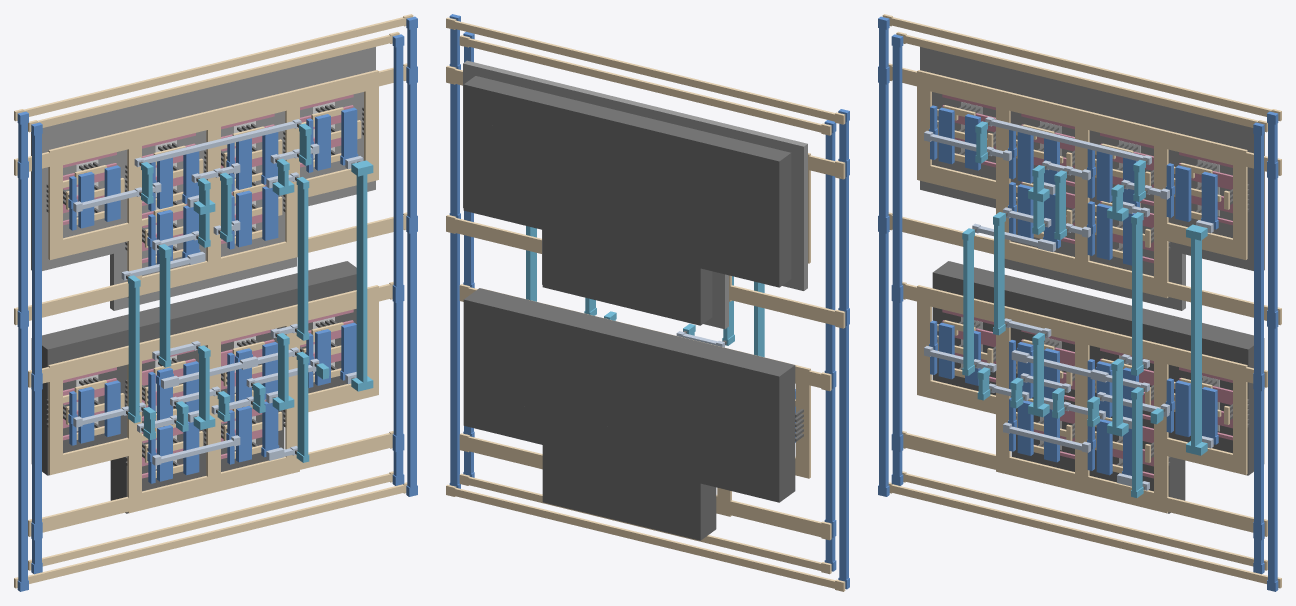
The model's file is current_mirror_OTA.gds.gltf.
3 renders of one model, left to right at view 1: azimuth 30°, elevation 25°; view 2: azimuth 150°, elevation 25°; view 3: azimuth 330°, elevation 25°, orthographic.
Parts seen in each view (by area): view 1: COMP2_li1, COMP2_met1, COMP2_met3, JNWATR_PCH_4C5F0_met1 (×6), JNWATR_NCH_4C5F0_met1 (×6), JNWATR_PCH_4CTAPTOP_nwell (×4), JNWATR_PCH_4C5F0_li1 (×6), JNWATR_NCH_4CTAPTOP_substrate (×4), COMP2_met2, JNWATR_PCH_4CTAPTOP_li1 (×4), JNWATR_NCH_4C5F0_li1 (×6), JNWATR_NCH_4CTAPBOT_li1 (×4) (+8 smaller); view 2: JNWATR_NCH_4C5F0_substrate (×6), JNWATR_PCH_4C5F0_substrate (×6), COMP2_li1, JNWATR_NCH_4CTAPTOP_substrate (×4), JNWATR_PCH_4CTAPTOP_substrate (×4), COMP2_met1, JNWATR_NCH_4CTAPBOT_substrate (×4), JNWATR_PCH_4CTAPBOT_substrate (×4), JNWATR_PCH_4CTAPTOP_nwell (×4), COMP2_met3, JNWATR_PCH_4CTAPBOT_nwell (×2), JNWATR_PCH_4C5F0_nwell (+1 smaller); view 3: COMP2_li1, COMP2_met1, COMP2_met3, JNWATR_PCH_4C5F0_met1 (×6), JNWATR_PCH_4CTAPTOP_nwell (×4), JNWATR_NCH_4C5F0_met1 (×6), JNWATR_NCH_4CTAPTOP_substrate (×4), COMP2_met2, JNWATR_PCH_4C5F0_li1 (×6), JNWATR_NCH_4C5F0_li1 (×6), JNWATR_PCH_4CTAPTOP_li1 (×4), JNWATR_NCH_4CTAPBOT_li1 (×4) (+8 smaller).
Part boxes in pixels (x1,y1,x2,y2): COMP2_li1: (14, 14, 413, 588); COMP2_met1: (17, 16, 417, 591); COMP2_met3: (128, 123, 373, 462); JNWATR_PCH_4C5F0_met1 (×6): (69, 107, 357, 266); JNWATR_NCH_4C5F0_met1 (×6): (69, 322, 356, 483); JNWATR_PCH_4CTAPTOP_nwell (×4): (31, 47, 375, 179); JNWATR_PCH_4C5F0_li1 (×6): (48, 94, 378, 271); JNWATR_NCH_4CTAPTOP_substrate (×4): (31, 261, 356, 383); COMP2_met2: (73, 119, 363, 465); JNWATR_PCH_4CTAPTOP_li1 (×4): (48, 70, 378, 179); JNWATR_NCH_4C5F0_li1 (×6): (48, 314, 378, 488); JNWATR_NCH_4CTAPBOT_li1 (×4): (48, 366, 378, 513); JNWATR_NCH_4C5F0_substrate (×6): (463, 334, 795, 506); JNWATR_PCH_4C5F0_substrate (×6): (463, 119, 791, 291); COMP2_li1: (446, 17, 845, 591); JNWATR_NCH_4CTAPTOP_substrate (×4): (463, 288, 795, 410); JNWATR_PCH_4CTAPTOP_substrate (×4): (463, 76, 791, 195); COMP2_met1: (449, 14, 849, 589); JNWATR_NCH_4CTAPBOT_substrate (×4): (463, 391, 795, 540); JNWATR_PCH_4CTAPBOT_substrate (×4): (463, 176, 791, 325); JNWATR_PCH_4CTAPTOP_nwell (×4): (463, 60, 807, 198); COMP2_met3: (526, 226, 764, 357); JNWATR_PCH_4CTAPBOT_nwell (×2): (703, 239, 807, 329); JNWATR_PCH_4C5F0_nwell: (791, 179, 807, 256); COMP2_li1: (882, 14, 1281, 588); COMP2_met1: (878, 16, 1278, 591); COMP2_met3: (962, 121, 1207, 497); JNWATR_PCH_4C5F0_met1 (×6): (930, 105, 1217, 265); JNWATR_PCH_4CTAPTOP_nwell (×4): (920, 47, 1264, 179); JNWATR_NCH_4C5F0_met1 (×6): (930, 320, 1217, 475); JNWATR_NCH_4CTAPTOP_substrate (×4): (932, 261, 1264, 383); COMP2_met2: (924, 116, 1213, 490); JNWATR_PCH_4C5F0_li1 (×6): (917, 99, 1247, 275); JNWATR_NCH_4C5F0_li1 (×6): (917, 312, 1247, 490); JNWATR_PCH_4CTAPTOP_li1 (×4): (917, 70, 1247, 179); JNWATR_NCH_4CTAPBOT_li1 (×4): (917, 366, 1247, 513).
Bounding box in the file's own units: 29.02 × 33.22 × 5.63.
